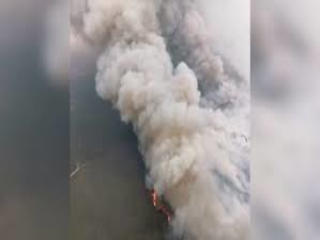smoke: (84, 3, 250, 236)
